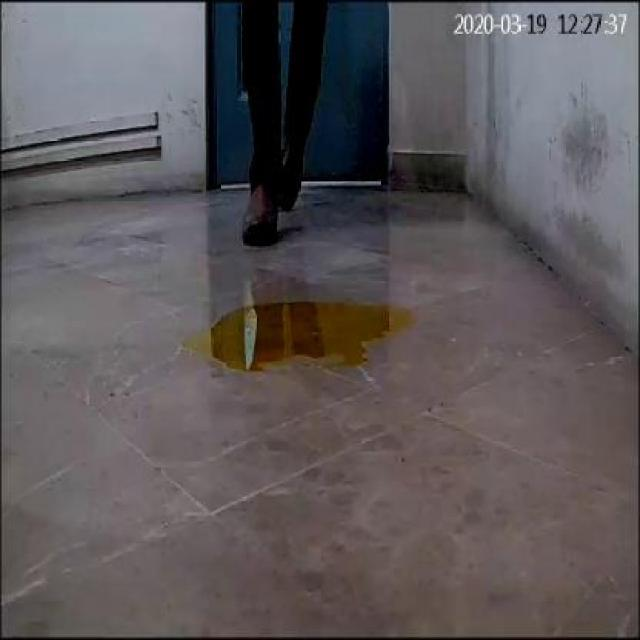spill: (185, 302, 418, 368)
